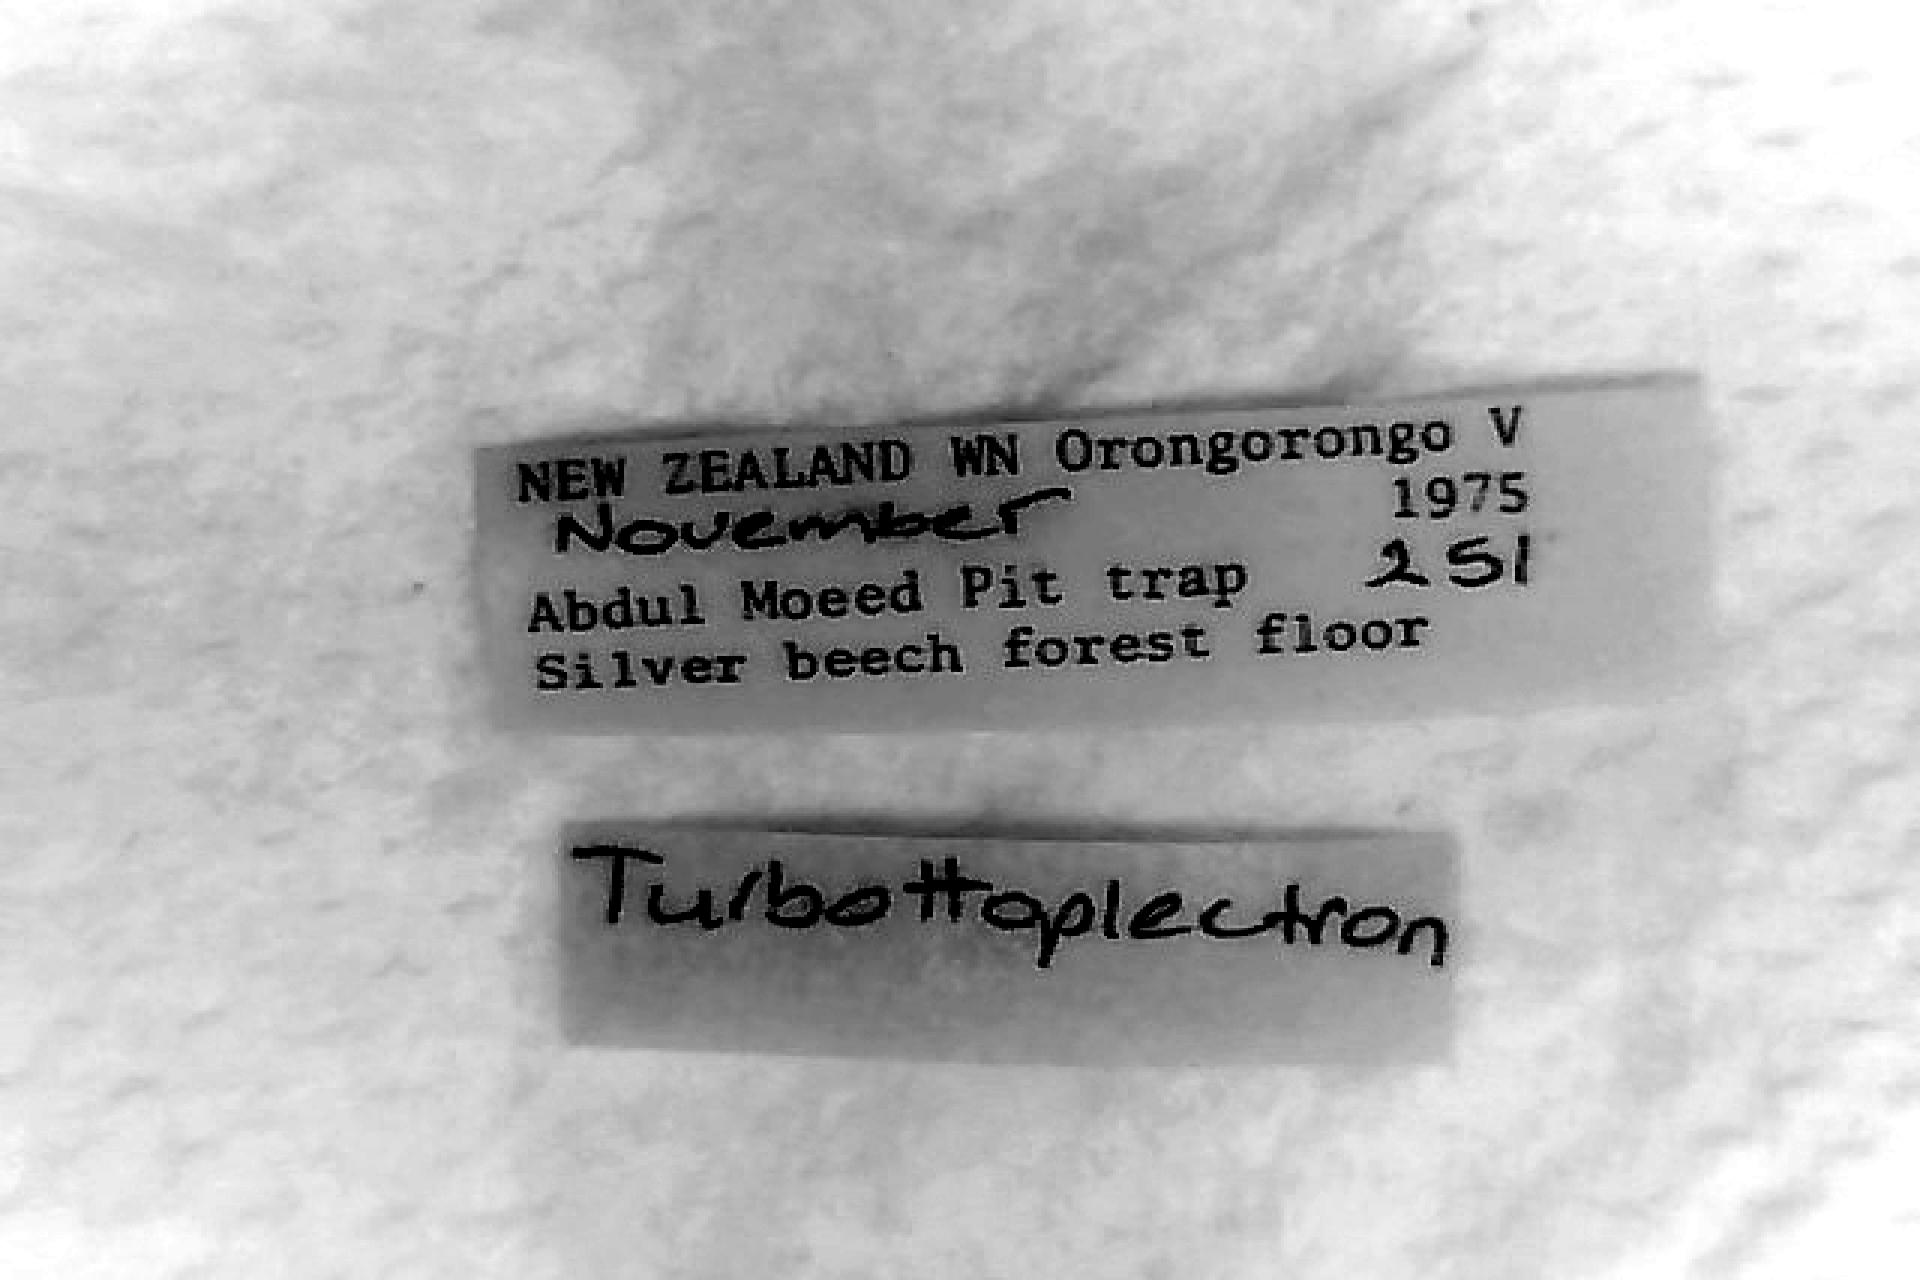hand_label: (562, 823, 1459, 1062)
mixed_label: (480, 380, 1706, 728)
